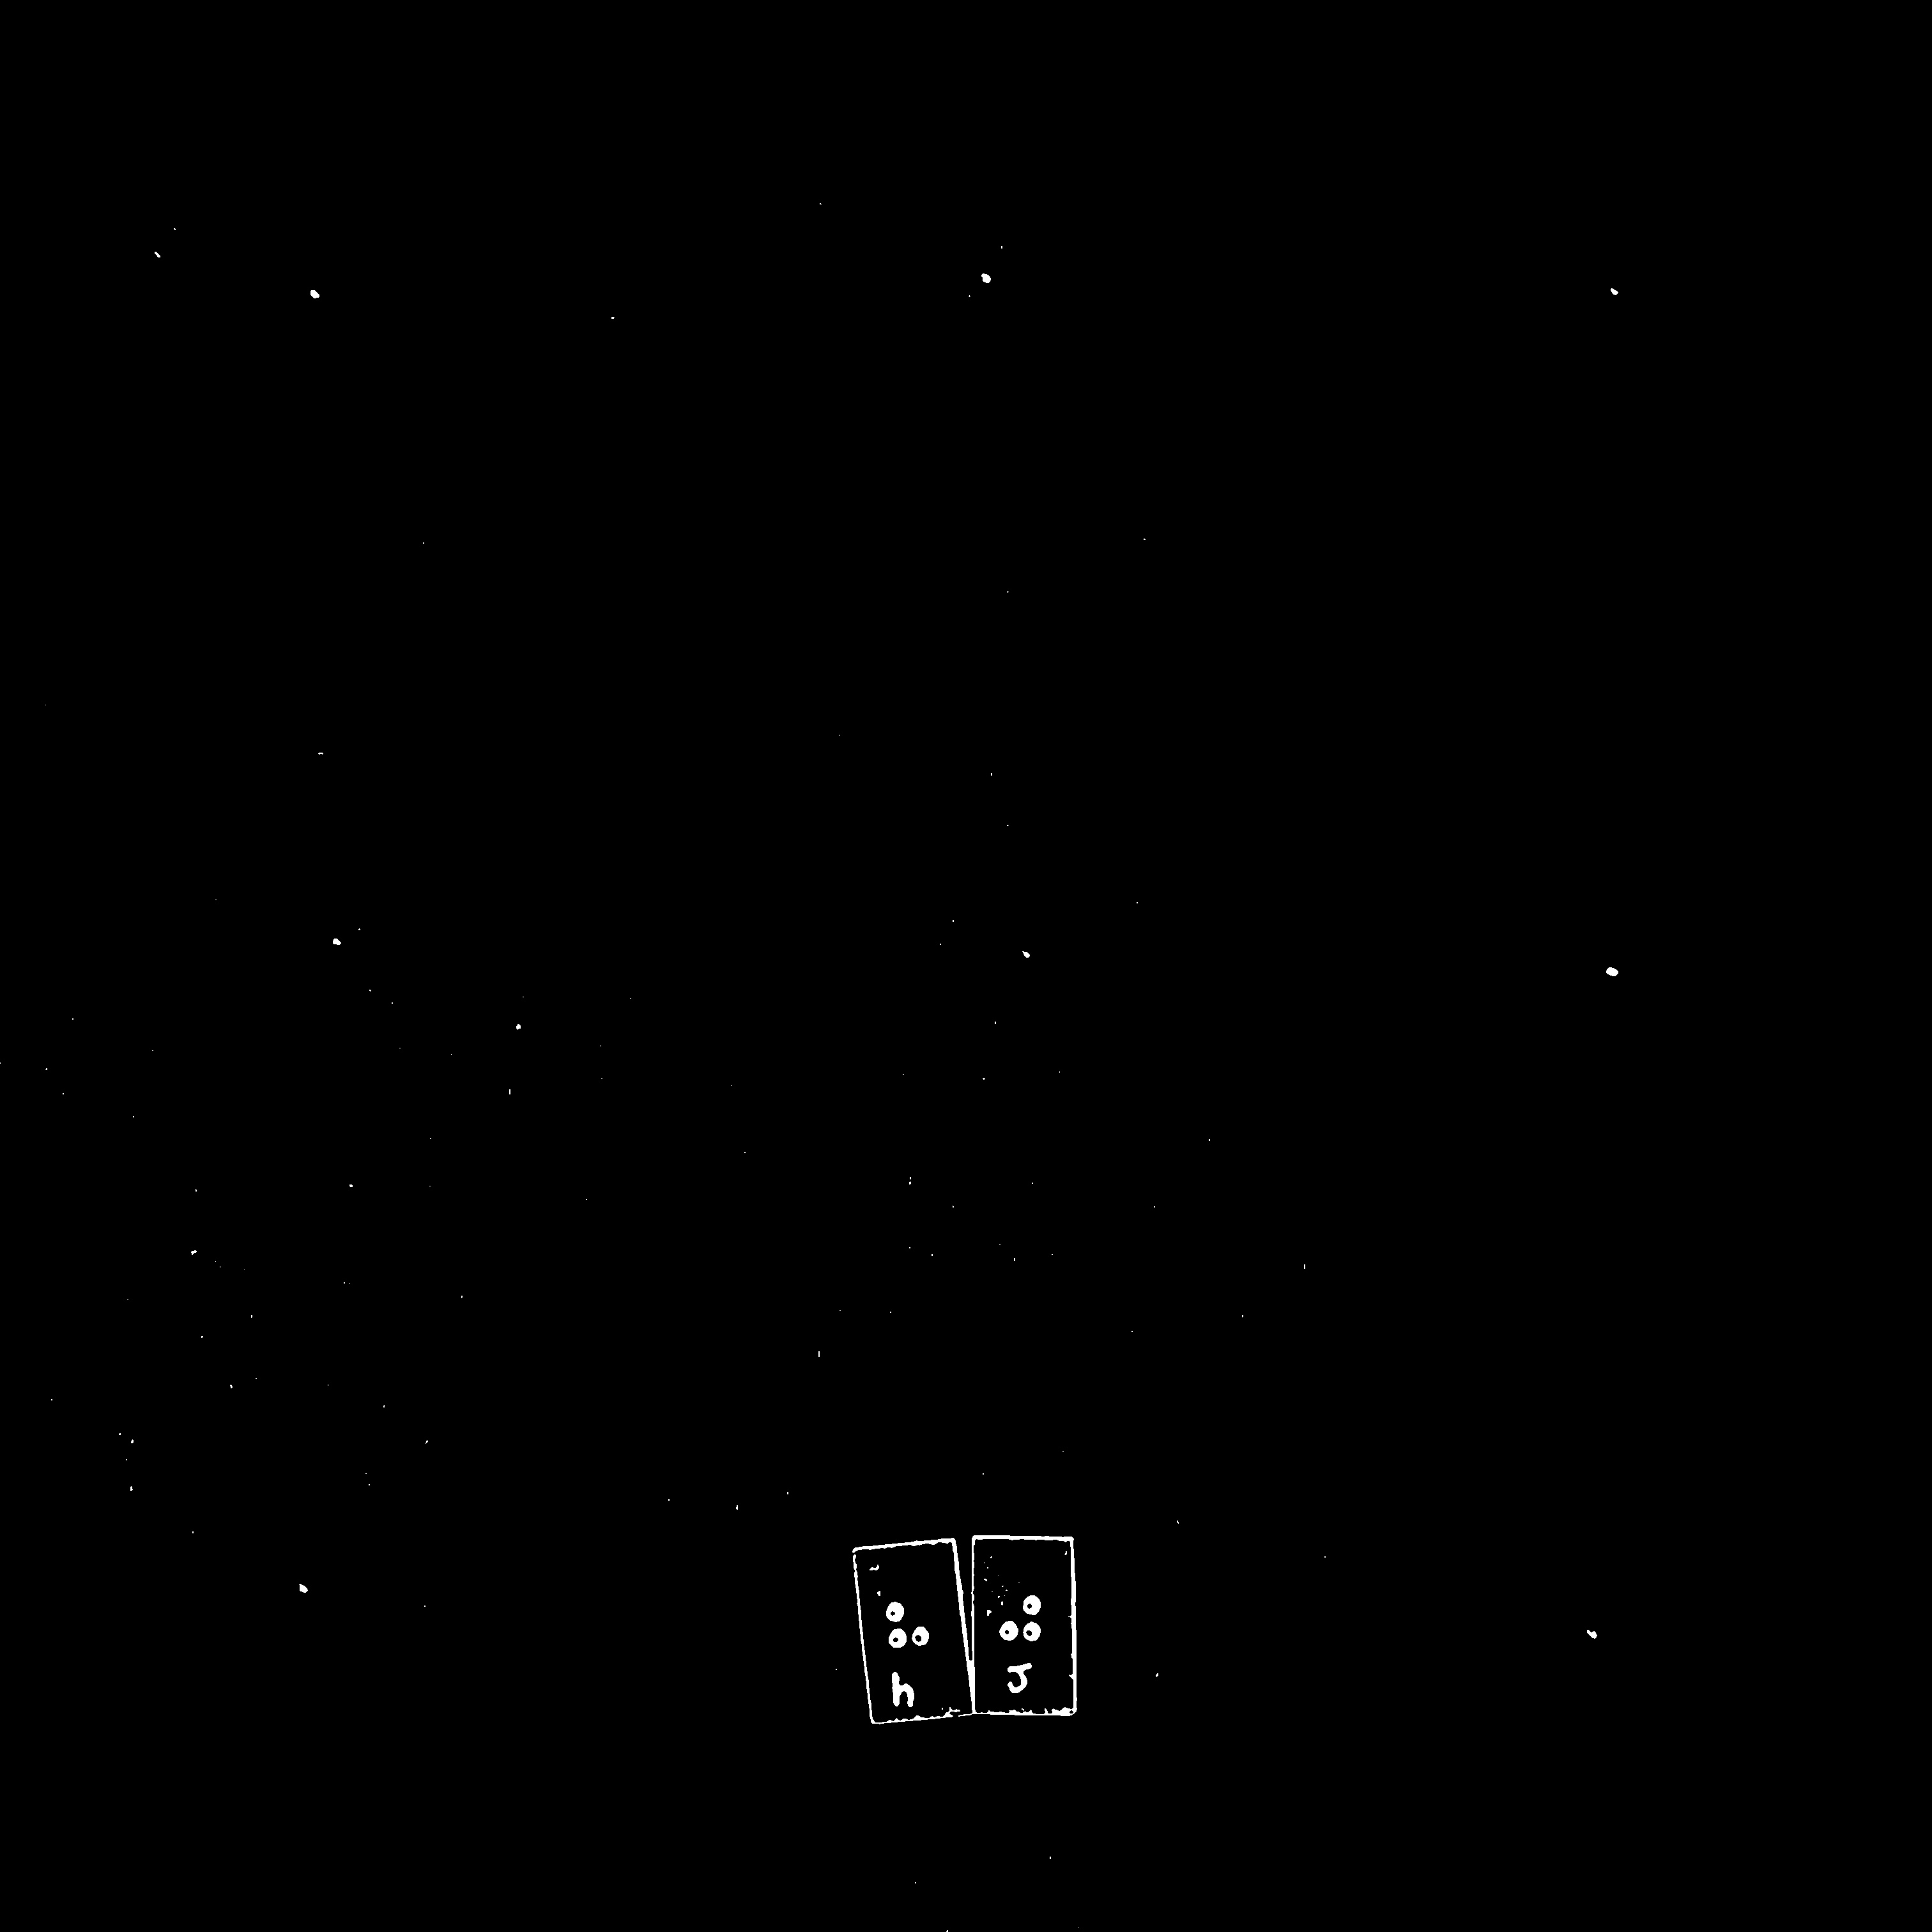h: (882, 1588, 935, 1667)
j: (996, 1582, 1045, 1661)
